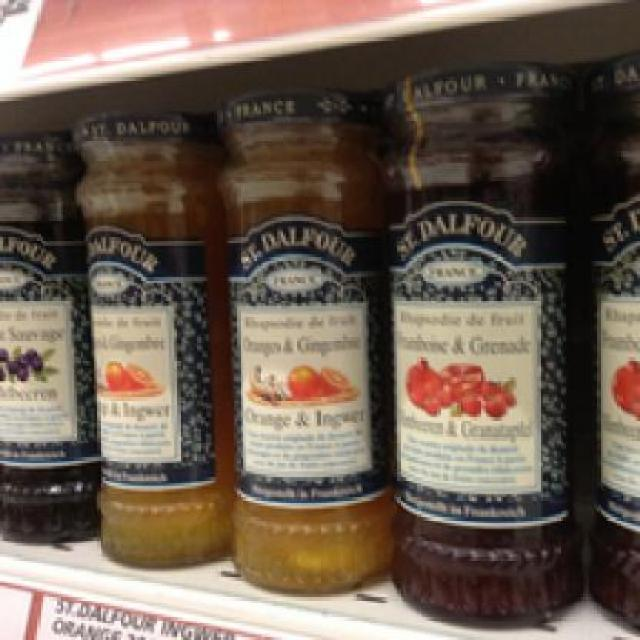Jam: (383, 63, 580, 623), (212, 85, 392, 598), (70, 109, 226, 566), (0, 128, 89, 546), (580, 53, 637, 610)
